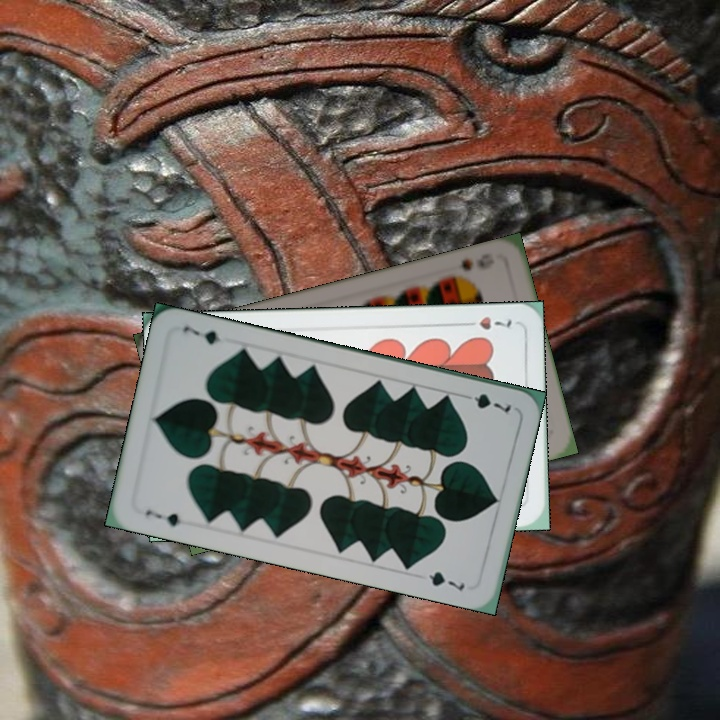G7: (457, 389, 514, 416), (141, 506, 184, 529)
H7: (458, 312, 514, 332)
S9: (444, 254, 475, 284)
